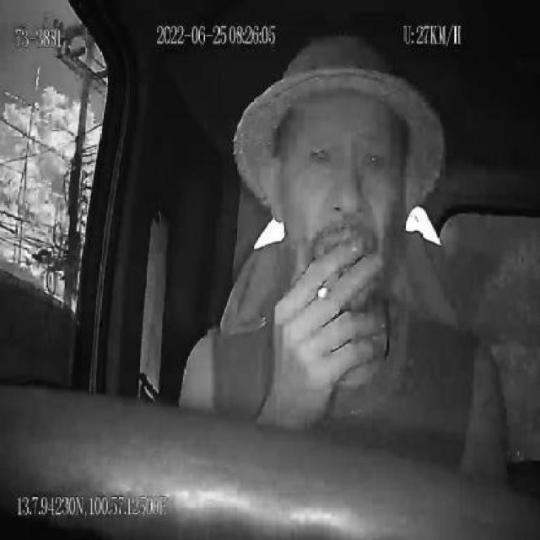smoking: (317, 262, 346, 302)
